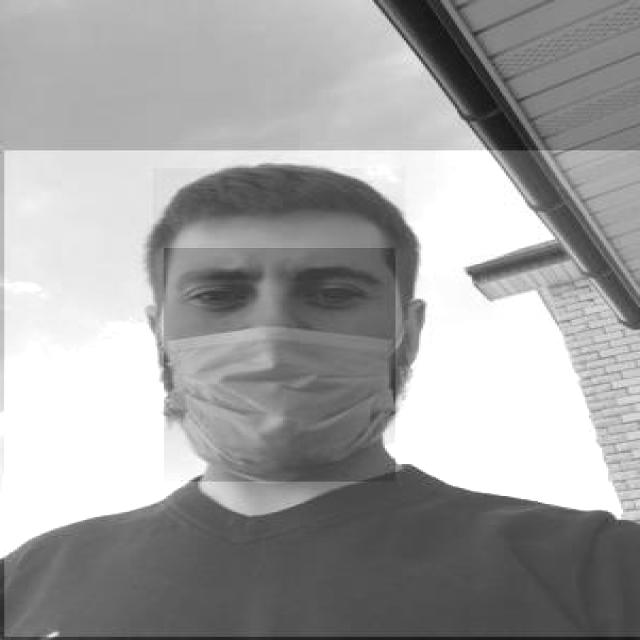face_mask: (164, 248, 396, 482)
head_nohelmet: (153, 168, 406, 248)
person: (2, 151, 640, 638)
